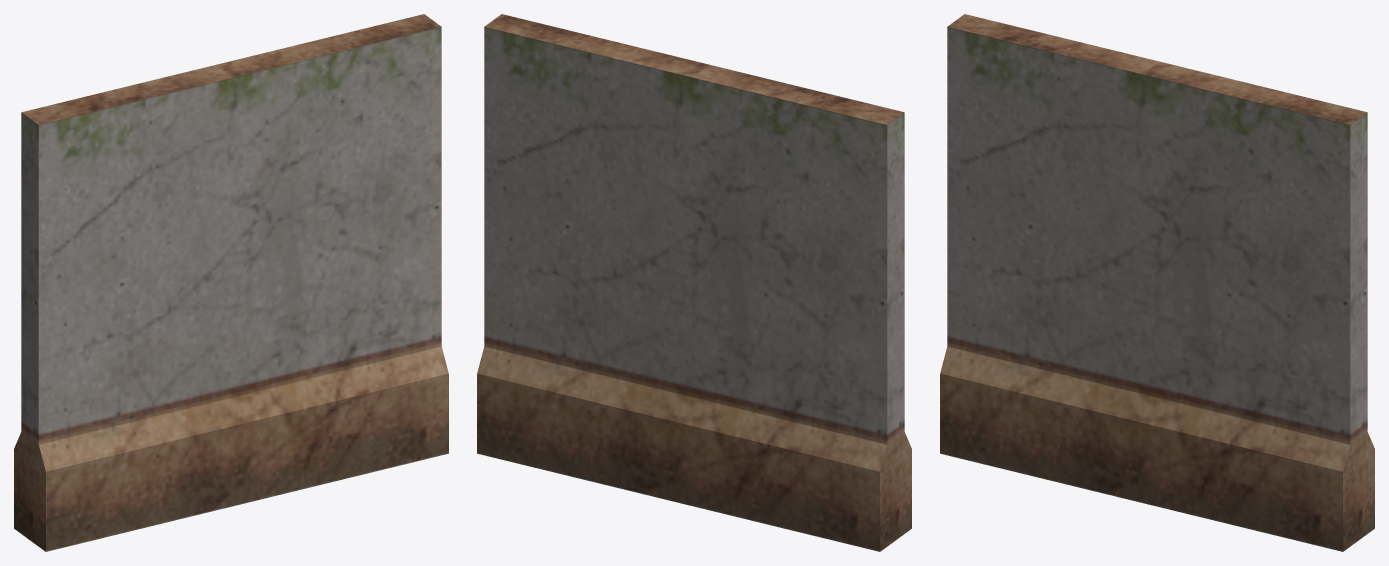
The model's file is MESH_ESGOTOINF_WALL2.fbx.
3 views of the same model, side by side, from view 1: azimuth 30°, elevation 25°; view 2: azimuth 150°, elevation 25°; view 3: azimuth 330°, elevation 25° (orthographic).
Visible parts, largest first — view 1: MESH_ESGOTOINF_WALL2; view 2: MESH_ESGOTOINF_WALL2; view 3: MESH_ESGOTOINF_WALL2.
Part boxes in pixels (left/top/right/bottom): MESH_ESGOTOINF_WALL2: left=14, top=14, right=448, bottom=551; MESH_ESGOTOINF_WALL2: left=477, top=14, right=911, bottom=551; MESH_ESGOTOINF_WALL2: left=940, top=14, right=1374, bottom=551.
Bounding box in the file's own units: 4 × 4 × 0.5456.
